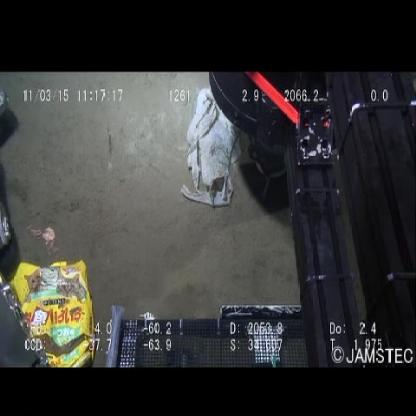Rov: (208, 72, 416, 302), (101, 302, 416, 365)
Rác: (5, 256, 96, 366), (178, 80, 246, 226)
